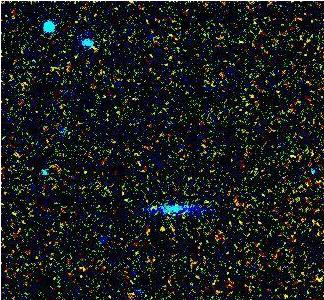star: (148, 212, 178, 242)
